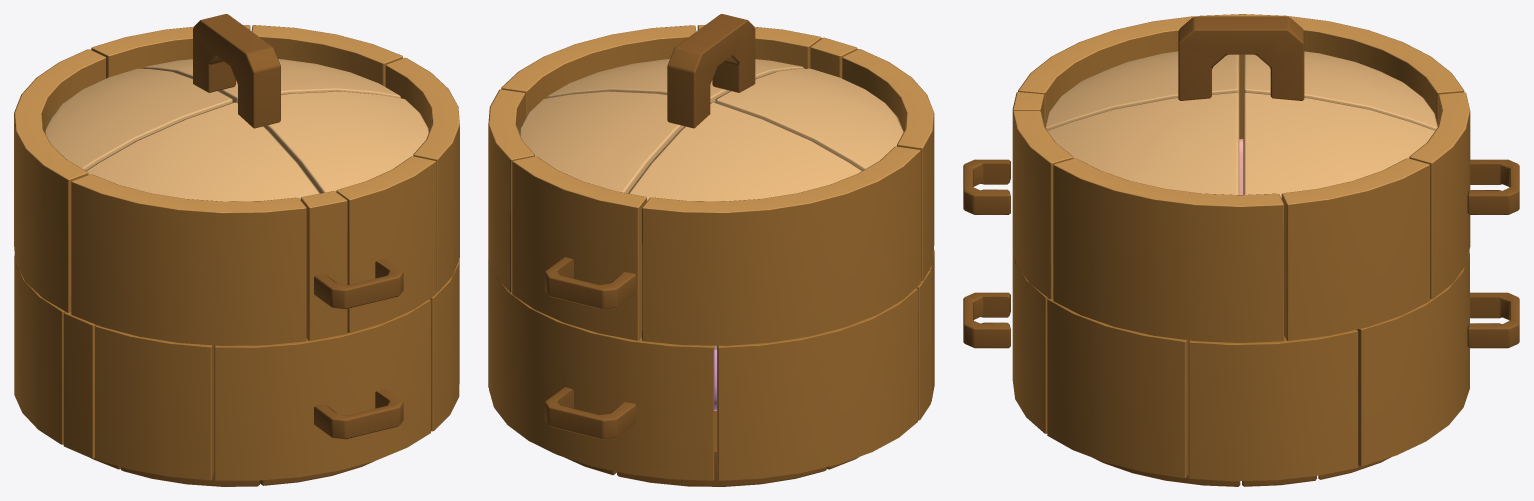
Rendered from Lv_149_Streamer_31.fbx.
The picture shows the model from 3 angles, left to right: view 1: azimuth 30°, elevation 25°; view 2: azimuth 150°, elevation 25°; view 3: azimuth 270°, elevation 25°; orthographic projection. The views are drawn at different scales.
Visible parts, largest first — view 1: LV1_Steamer_2, LV3_Steamer_9, LV3_Steamer_3, LV1_Steamer_3, LV1_Steamer_1, LV1_Steamer_12, LV1_Steamer_14, LV1_Steamer_4, LV1_Steamer_16, LV1_Steamer_8, LV3_Steamer_2, LV1_Steamer_5 (+9 smaller); view 2: LV1_Steamer_1, LV3_Steamer_11, LV3_Steamer_2, LV1_Steamer_11, LV1_Steamer_4, LV1_Steamer_13, LV1_Steamer_3, LV1_Steamer_8, LV1_Steamer_2, LV1_Steamer_16, LV1_Steamer_15, LV1_Steamer_14 (+7 smaller); view 3: LV1_Steamer_16, LV3_Steamer_17, LV1_Steamer_15, LV3_Steamer_16, LV3_Steamer_11, LV1_Steamer_14, LV1_Steamer_13, LV1_Steamer_8, LV1_Steamer_11, LV1_Steamer_12, LV1_Steamer_1, LV1_Steamer_3 (+9 smaller).
Part boxes in pixels (x1,y1,x2,y2): LV1_Steamer_2: [71, 174, 306, 345]; LV3_Steamer_9: [214, 299, 430, 480]; LV3_Steamer_3: [95, 325, 214, 480]; LV1_Steamer_3: [86, 102, 319, 201]; LV1_Steamer_1: [14, 49, 105, 312]; LV1_Steamer_12: [336, 156, 436, 332]; LV1_Steamer_14: [264, 91, 428, 193]; LV1_Steamer_4: [44, 68, 232, 170]; LV1_Steamer_16: [385, 57, 459, 292]; LV1_Steamer_8: [193, 14, 280, 128]; LV3_Steamer_2: [14, 255, 65, 444]; LV1_Steamer_5: [300, 191, 347, 340]; LV1_Steamer_1: [642, 146, 920, 345]; LV3_Steamer_11: [489, 260, 714, 480]; LV3_Steamer_2: [717, 288, 917, 480]; LV1_Steamer_11: [512, 156, 646, 340]; LV1_Steamer_4: [628, 102, 862, 201]; LV1_Steamer_13: [519, 91, 683, 193]; LV1_Steamer_3: [715, 68, 903, 170]; LV1_Steamer_8: [667, 14, 755, 128]; LV1_Steamer_2: [842, 49, 934, 281]; LV1_Steamer_16: [501, 25, 696, 117]; LV1_Steamer_15: [488, 89, 534, 292]; LV1_Steamer_14: [547, 59, 804, 102]; LV1_Steamer_16: [1053, 158, 1284, 342]; LV3_Steamer_17: [1188, 329, 1358, 481]; LV1_Steamer_15: [1281, 158, 1429, 340]; LV3_Steamer_16: [1047, 298, 1188, 478]; LV3_Steamer_11: [1357, 250, 1469, 466]; LV1_Steamer_14: [1047, 92, 1239, 194]; LV1_Steamer_13: [1243, 92, 1434, 198]; LV1_Steamer_8: [1178, 16, 1304, 100]; LV1_Steamer_11: [1409, 92, 1470, 299]; LV1_Steamer_12: [1012, 111, 1073, 299]; LV1_Steamer_1: [1199, 14, 1464, 138]; LV1_Steamer_3: [1044, 51, 1239, 130].
Size of the model in its own units: 3.87 by 3.56 by 4.71.
